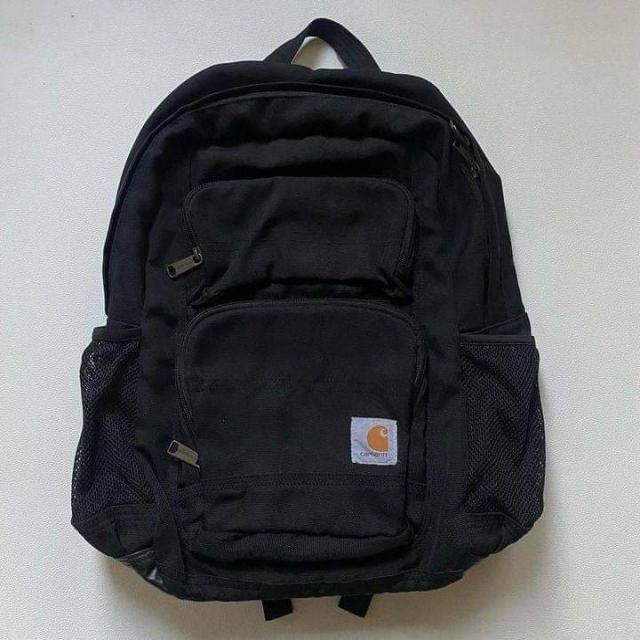bag: (77, 60, 552, 597)
